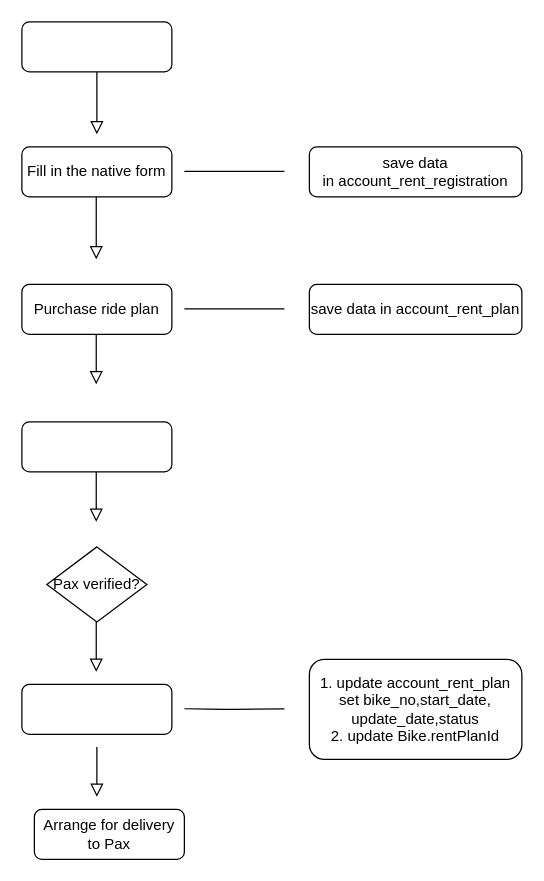
The diagram is 544 pixels wide and 881 high, and some of its shapes have lost their labels. Here are the shapes that lost their labels. From the top down, the centre of each, then its label:
point (96, 46): Choose ride/rental plan
point (96, 446): Verify in Jarvis for new rental
point (96, 708): Tag a rental scooter to Pax account in Jarvis
